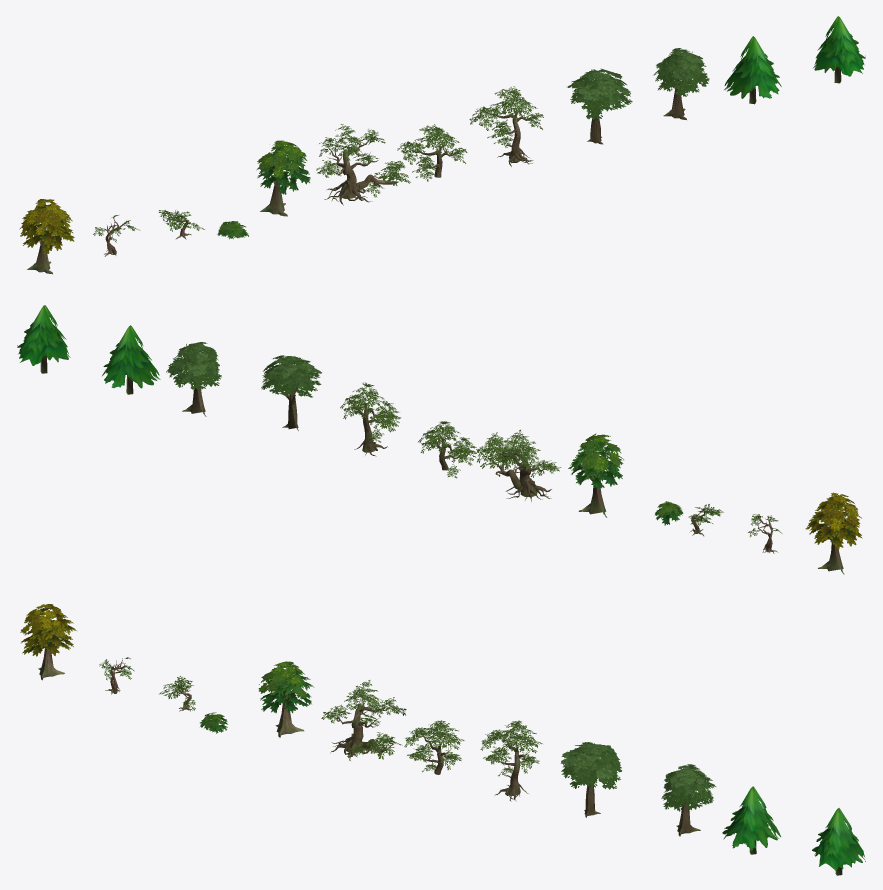
The model's file is Shu.FBX.
3 views of the same model, one above another, from view 1: azimuth 30°, elevation 25°; view 2: azimuth 150°, elevation 25°; view 3: azimuth 330°, elevation 25° (orthographic).
Parts seen in each view (by area): view 1: Object151, Object148, Object152, Object153, Object149, Object147, Object146, Object145, Object150, Object155; view 2: Object151, Object153, Object152, Object147, Object148, Object146, Object145, Object149, Object150; view 3: Object151, Object148, Object153, Object152, Object147, Object149, Object146, Object145, Object150, Object155.
Part boxes in pixels (<box>): Object151: <box>316,124,410,205</box>; Object148: <box>567,68,632,144</box>; Object152: <box>256,140,310,216</box>; Object153: <box>19,199,74,274</box>; Object149: <box>469,86,543,166</box>; Object147: <box>653,48,709,119</box>; Object146: <box>724,36,781,104</box>; Object145: <box>813,16,865,83</box>; Object150: <box>397,124,467,181</box>; Object155: <box>158,210,204,239</box>; Object151: <box>476,429,561,501</box>; Object153: <box>805,492,862,574</box>; Object152: <box>568,433,623,517</box>; Object147: <box>166,342,221,416</box>; Object148: <box>261,355,321,430</box>; Object146: <box>102,325,160,394</box>; Object145: <box>17,305,70,373</box>; Object149: <box>340,382,401,456</box>; Object150: <box>418,421,476,478</box>; Object151: <box>321,680,406,760</box>; Object148: <box>560,742,622,817</box>; Object153: <box>20,604,76,680</box>; Object152: <box>258,661,314,737</box>; Object147: <box>661,764,716,836</box>; Object149: <box>480,720,542,801</box>; Object146: <box>722,786,780,854</box>; Object145: <box>812,808,865,875</box>; Object150: <box>404,720,464,774</box>; Object155: <box>159,676,195,711</box>.
Size of the model in its own units: 659 by 58.67 by 56.75.
